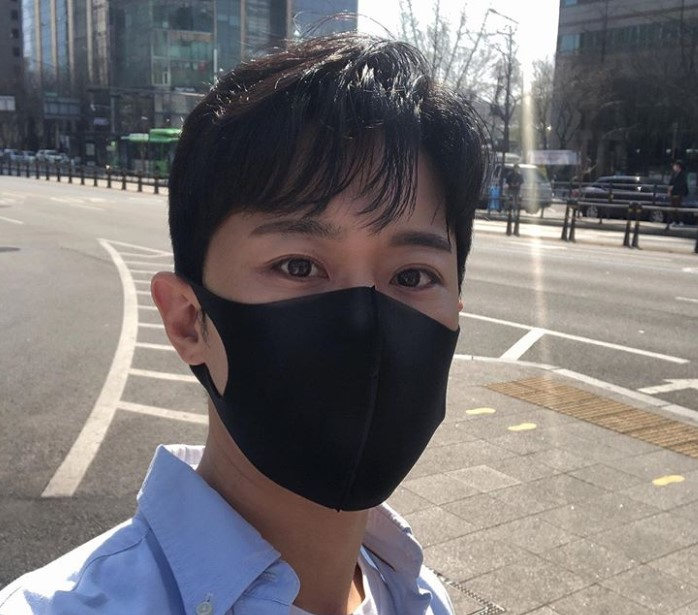face_with_mask: (150, 62, 482, 516)
